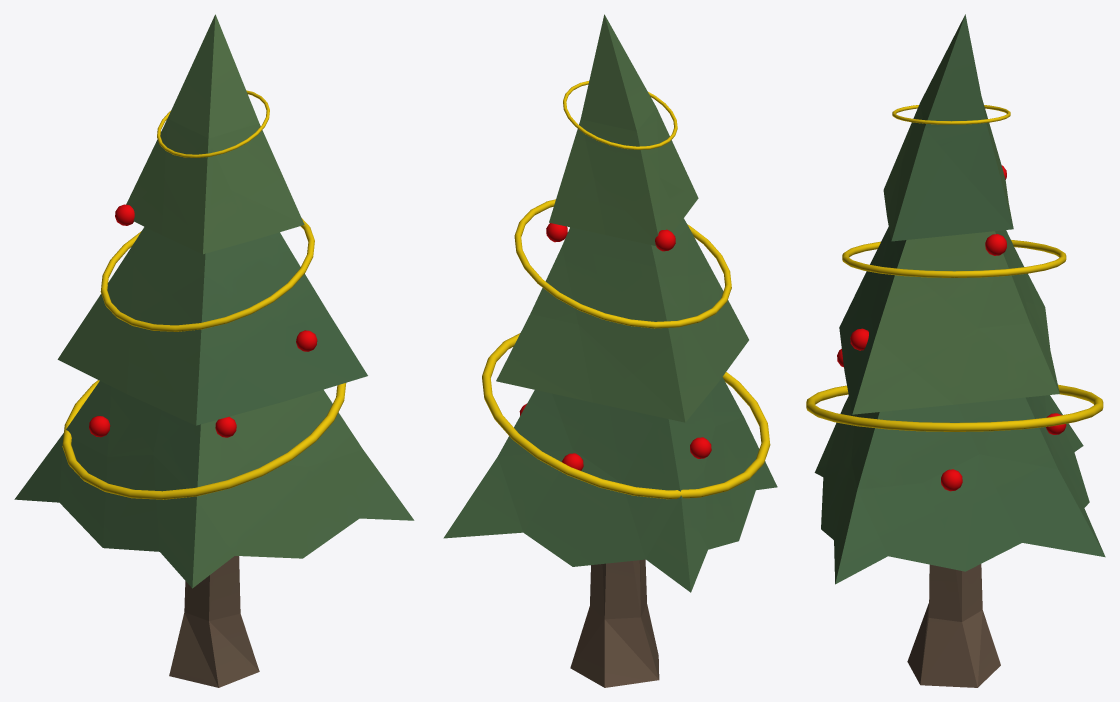
Rendered from tree.glb.
The picture shows the model from 3 angles, left to right: view 1: azimuth 30°, elevation 25°; view 2: azimuth 150°, elevation 25°; view 3: azimuth 270°, elevation 25°; orthographic projection. The views are drawn at different scales.
Visible parts, largest first — view 1: tree-spruce, Torus, Torus.001, Torus.002; view 2: tree-spruce, Torus, Torus.001, Torus.002; view 3: tree-spruce, Torus, Torus.001, Torus.002.
Part boxes in pixels (left/top/right/bottom): tree-spruce: left=14, top=14, right=414, bottom=687; Torus: left=62, top=380, right=346, bottom=499; Torus.001: left=100, top=218, right=314, bottom=331; Torus.002: left=157, top=90, right=269, bottom=157; tree-spruce: left=443, top=14, right=777, bottom=687; Torus: left=482, top=333, right=770, bottom=499; Torus.001: left=514, top=199, right=731, bottom=328; Torus.002: left=563, top=81, right=677, bottom=149; tree-spruce: left=814, top=14, right=1105, bottom=687; Torus: left=806, top=384, right=1103, bottom=431; Torus.001: left=842, top=240, right=1066, bottom=277; Torus.002: left=892, top=105, right=1010, bottom=124.
Bounding box in the file's own units: 12.09 × 26.83 × 11.03.
Materials: 3 (1 with a texture image).
